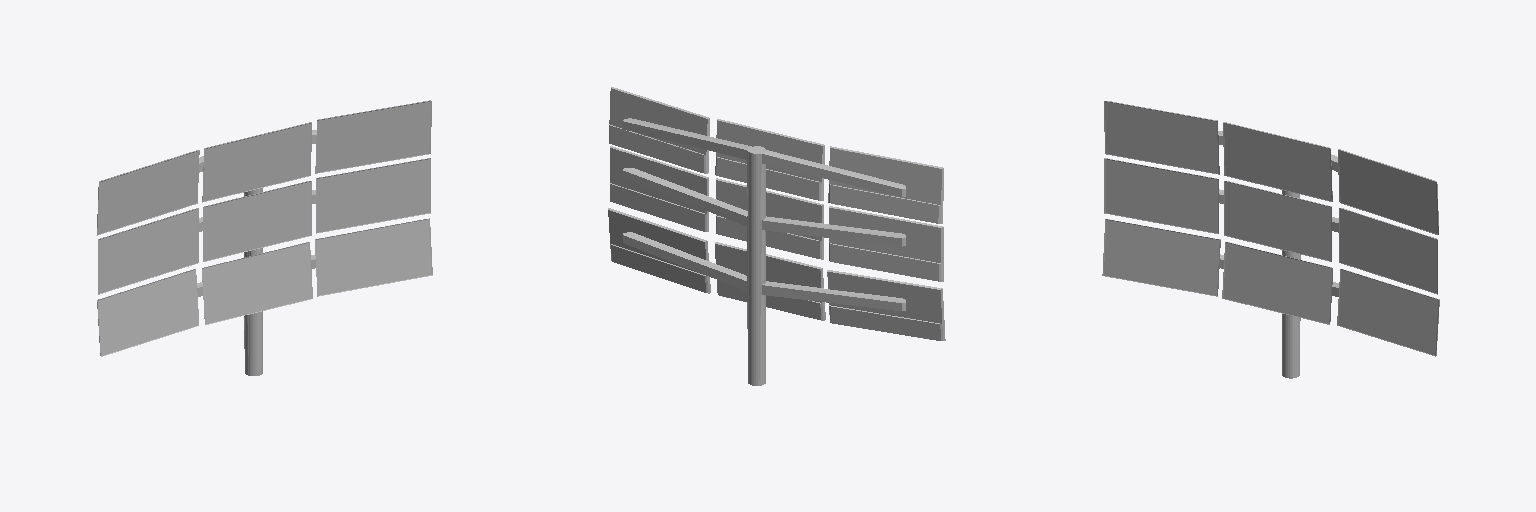
The model's file is screen.obj.
3 views of the same model, side by side, from view 1: azimuth 30°, elevation 25°; view 2: azimuth 150°, elevation 25°; view 3: azimuth 330°, elevation 25° (orthographic).
Parts seen in each view (by area): view 1: screen_Plane.004; view 2: screen_Plane.004; view 3: screen_Plane.004.
Boxes of the visible parts, x1=… form: screen_Plane.004: x1=97, y1=100, x2=432, y2=375; screen_Plane.004: x1=608, y1=87, x2=945, y2=385; screen_Plane.004: x1=1102, y1=101, x2=1439, y2=378.
Size of the model in its own units: 4.62 by 3.24 by 0.5371.